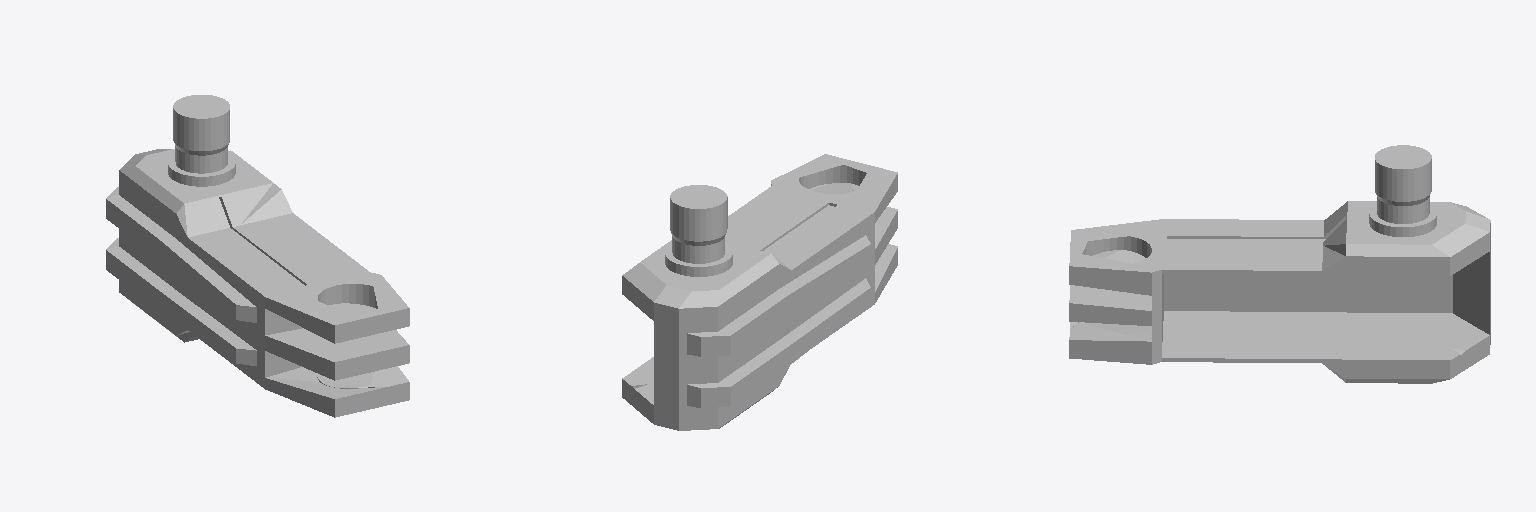
File: arm_r_02.obj
3 renders of one model, left to right at view 1: azimuth 30°, elevation 25°; view 2: azimuth 150°, elevation 25°; view 3: azimuth 270°, elevation 25°, orthographic.
Parts seen in each view (by area): view 1: arm_r_02_Cube.006; view 2: arm_r_02_Cube.006; view 3: arm_r_02_Cube.006.
Part boxes in pixels (x1,y1,x2,y2): arm_r_02_Cube.006: (106,95,409,417); arm_r_02_Cube.006: (622,154,897,430); arm_r_02_Cube.006: (1069,145,1490,383).
Size of the model in its own units: 0.2495 by 0.3984 by 0.743.